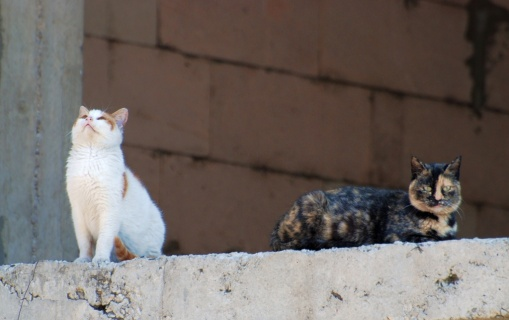Cat: (268, 155, 466, 250), (62, 105, 166, 263)
